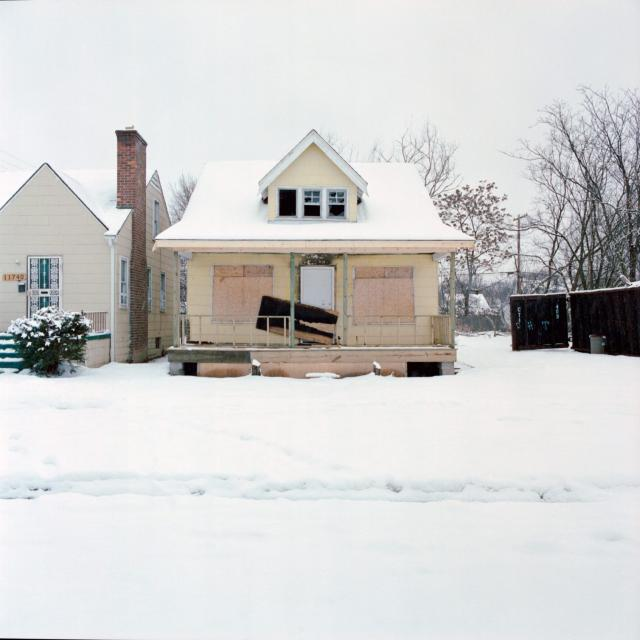House: (155, 129, 478, 379), (0, 126, 177, 375)
